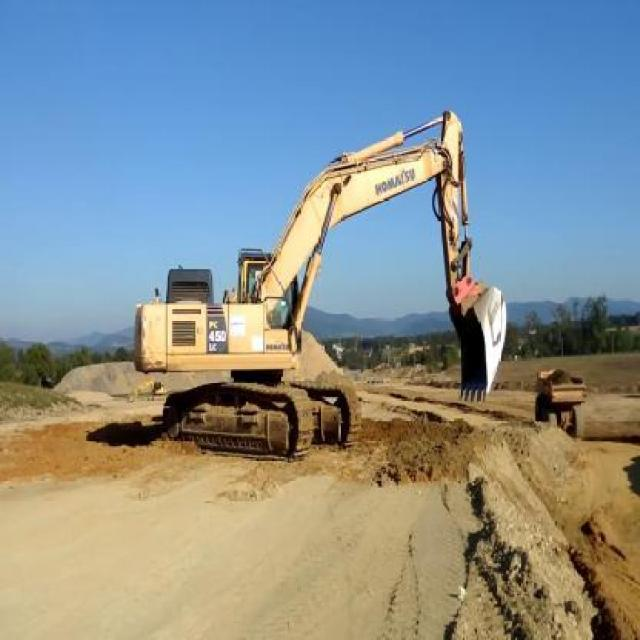Dump Truck: (533, 367, 587, 439)
Excavator: (132, 105, 508, 464)
